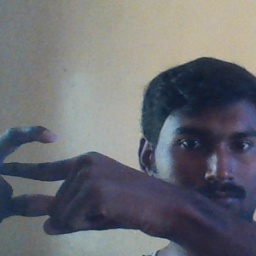E: (2, 122, 86, 237)
